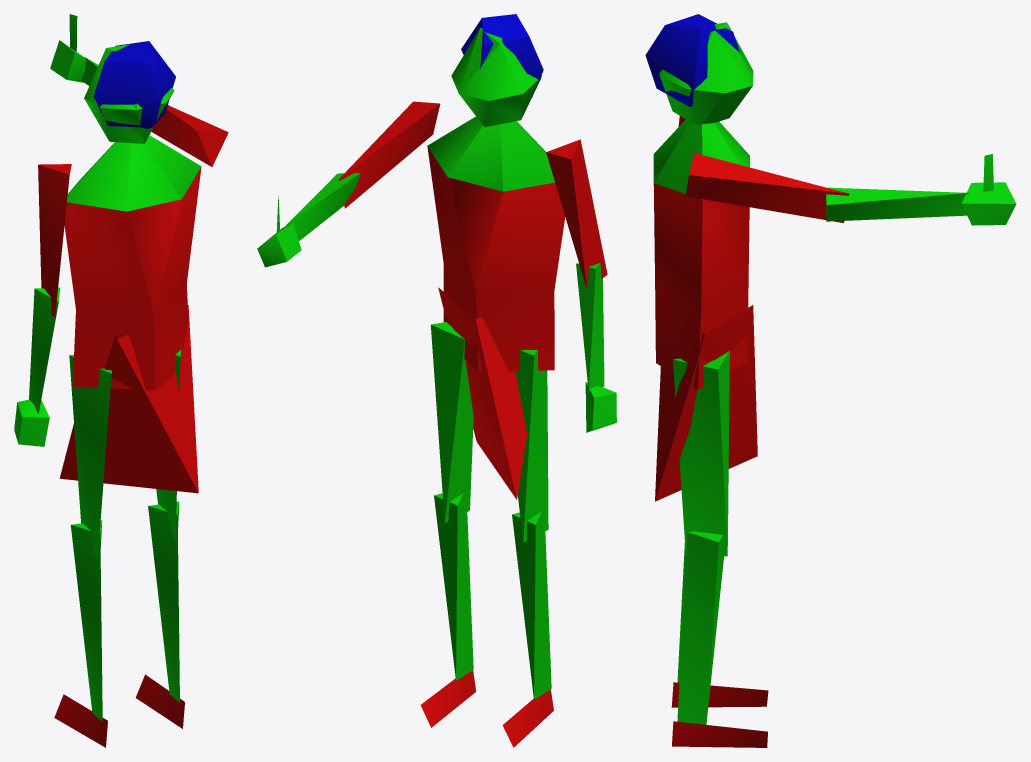
File: stand_thumbs_lod2.glb
3 renders of one model, left to right at view 1: azimuth 30°, elevation 25°; view 2: azimuth 150°, elevation 25°; view 3: azimuth 270°, elevation 25°, orthographic. The views are drawn at different scales.
Parts seen in each view (by area): view 1: OUT_2; view 2: OUT_2; view 3: OUT_2.
Part boxes in pixels (<box>): OUT_2: <box>14,14,228,747</box>; OUT_2: <box>257,14,616,747</box>; OUT_2: <box>645,14,1016,747</box>.
Bounding box in the file's own units: 0.5558 × 1.69 × 0.8019.
